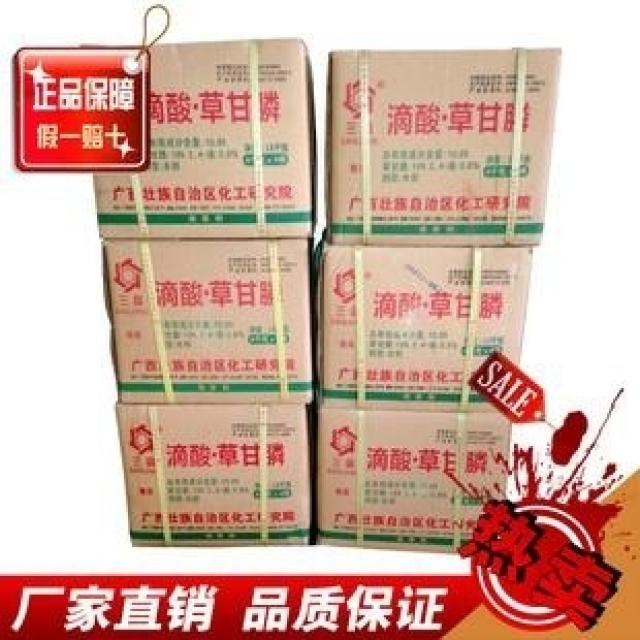box: (324, 51, 563, 246), (91, 38, 317, 238), (312, 238, 534, 414), (99, 238, 314, 402), (311, 403, 514, 553), (115, 400, 311, 547)
